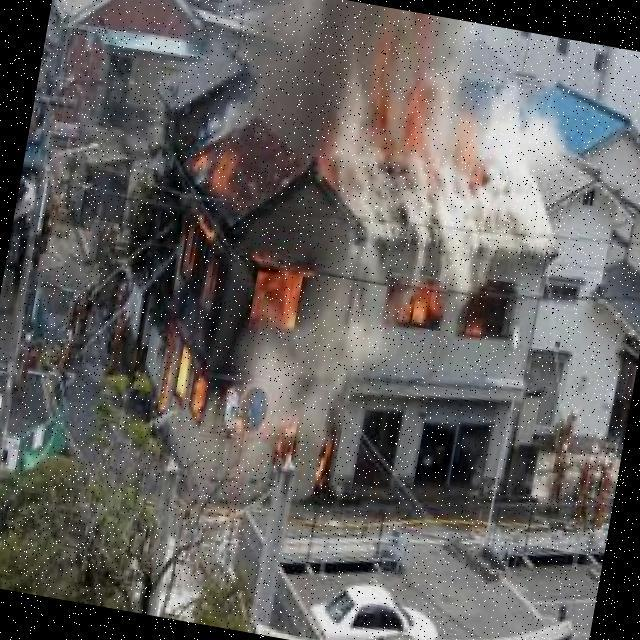Fire: (149, 129, 342, 471), (355, 42, 494, 178), (384, 275, 489, 349)
